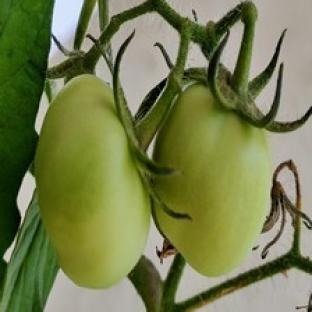Tomato: (35, 74, 150, 288), (154, 84, 271, 275)
